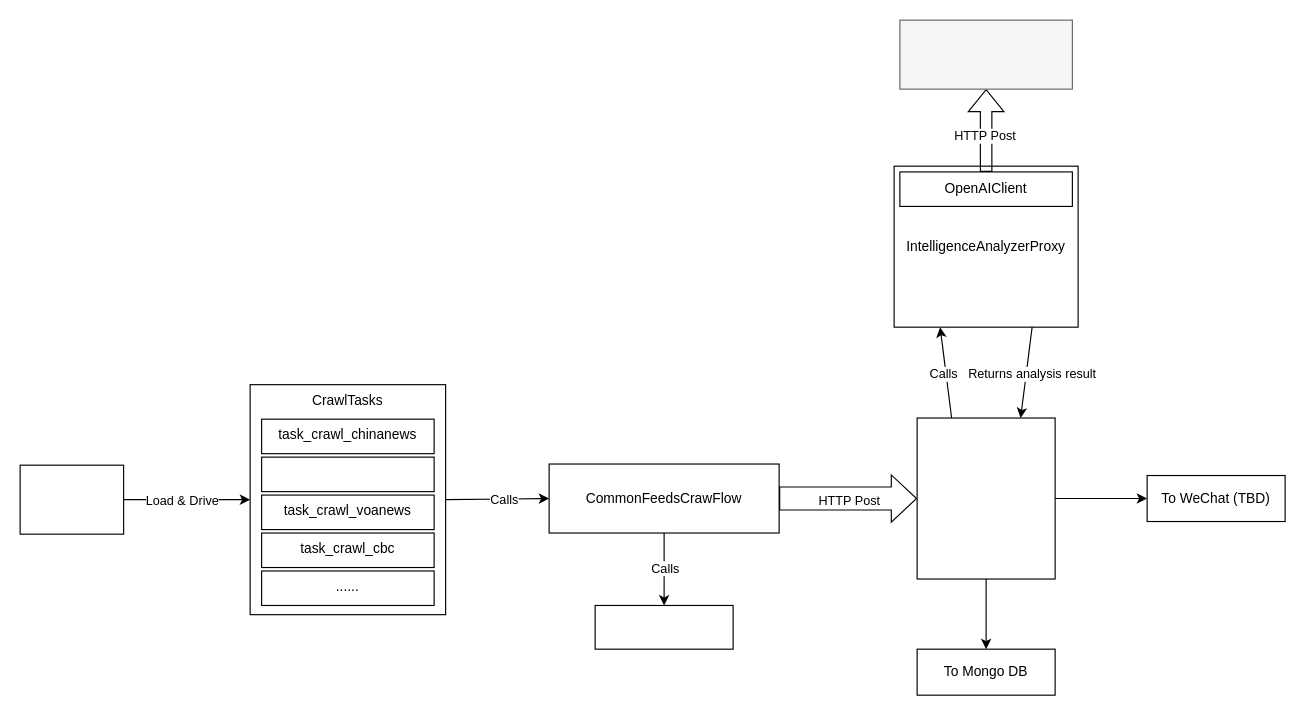
This 1305x715 diagram has some shape labels left out. The shapes that lost their labels are listed below. From the top down, each one's centre as x and y in pixels, then its label:
the point at 985,54: silliconflow
the point at 347,474: task_crawl_people
the point at 71,499: Service Engine
the point at 985,498: IntelligenceHub
the point at 663,626: to_file_and_history
